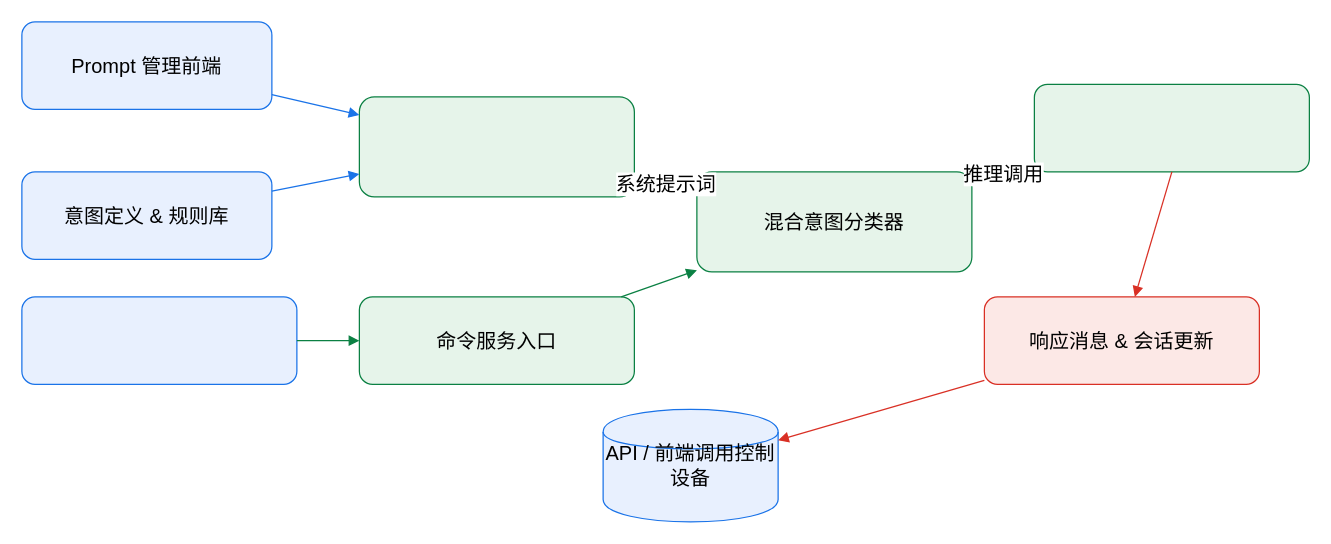
Some shapes in this 1331 by 544 pixel diagram are drawn without their labels. Each missing label, with the centre of its shape:
"用户请求 & 会话上下文" goes at point (159, 340).
"系统提示词构建" goes at point (496, 146).
"豆包 LLM 推理服务" goes at point (1171, 127).
